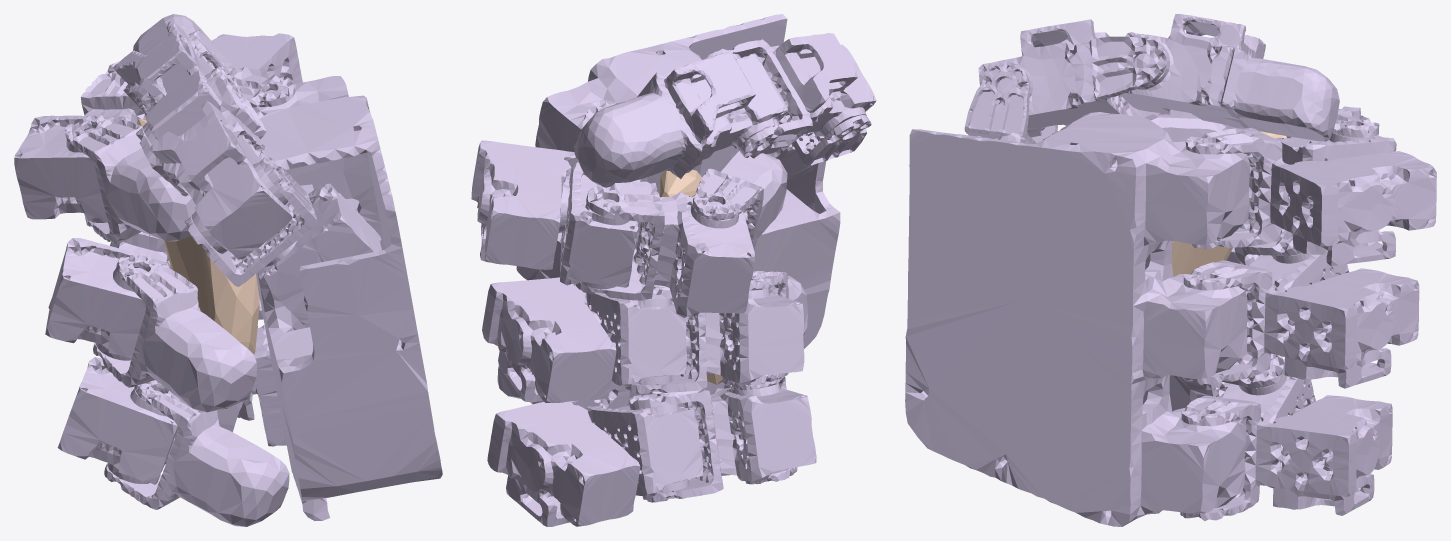
The picture shows the model from 3 angles, left to right: view 1: azimuth 30°, elevation 25°; view 2: azimuth 150°, elevation 25°; view 3: azimuth 270°, elevation 25°; orthographic projection. The views are drawn at different scales.
Visible parts, largest first — view 1: LEAP_hand, world; view 2: LEAP_hand, world; view 3: LEAP_hand, world.
Part boxes in pixels (<box>): LEAP_hand: <box>14,14,442,526</box>; world: <box>137,118,259,409</box>; LEAP_hand: <box>471,14,876,526</box>; world: <box>659,169,722,384</box>; LEAP_hand: <box>905,14,1436,526</box>; world: <box>1172,131,1286,276</box>.
Size of the model in its own units: 0.1243 by 0.1586 by 0.1716.
